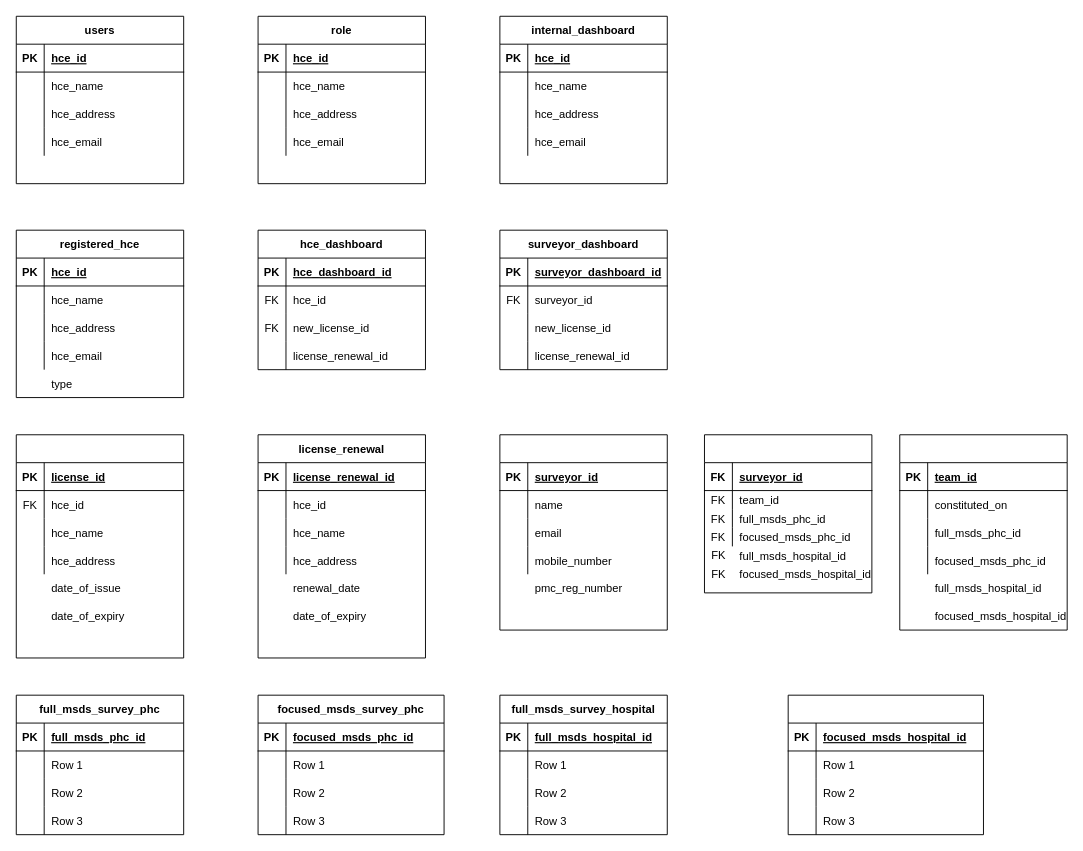
Some shapes in this 1083 by 851 pixel diagram are drawn without their labels. Each missing label, with the box of its shape:
focused_msds_survey_hospital: (787, 694, 983, 835)
new_license: (15, 434, 184, 658)
registered_surveyor: (499, 434, 667, 630)
survey_team: (899, 434, 1067, 630)
surveyor_team: (704, 434, 872, 593)
